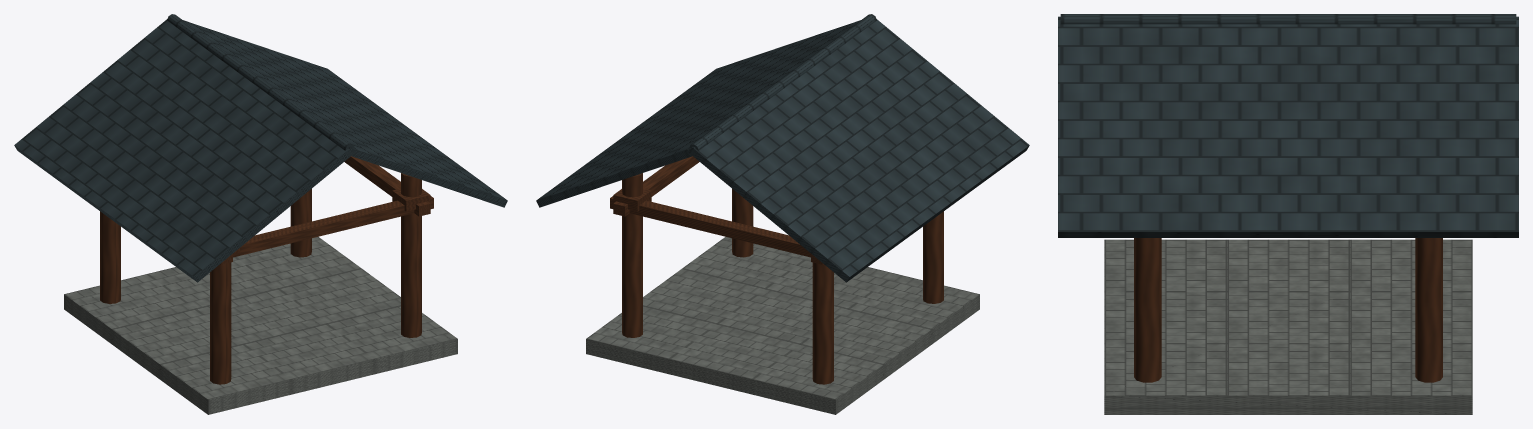
The model's file is pavilion_v3.obj.
The picture shows the model from 3 angles, left to right: view 1: azimuth 30°, elevation 25°; view 2: azimuth 150°, elevation 25°; view 3: azimuth 270°, elevation 25°; orthographic projection. The views are drawn at different scales.
Visible parts, largest first — view 1: StoryWorld_LakesidePavilion_v3; view 2: StoryWorld_LakesidePavilion_v3; view 3: StoryWorld_LakesidePavilion_v3.
Part boxes in pixels (x1,y1,x2,y2): StoryWorld_LakesidePavilion_v3: [14, 14, 507, 414]; StoryWorld_LakesidePavilion_v3: [536, 14, 1029, 414]; StoryWorld_LakesidePavilion_v3: [1058, 14, 1518, 414].
Size of the model in its own units: 9.04 by 6.96 by 9.
5 materials, 5 textured.
